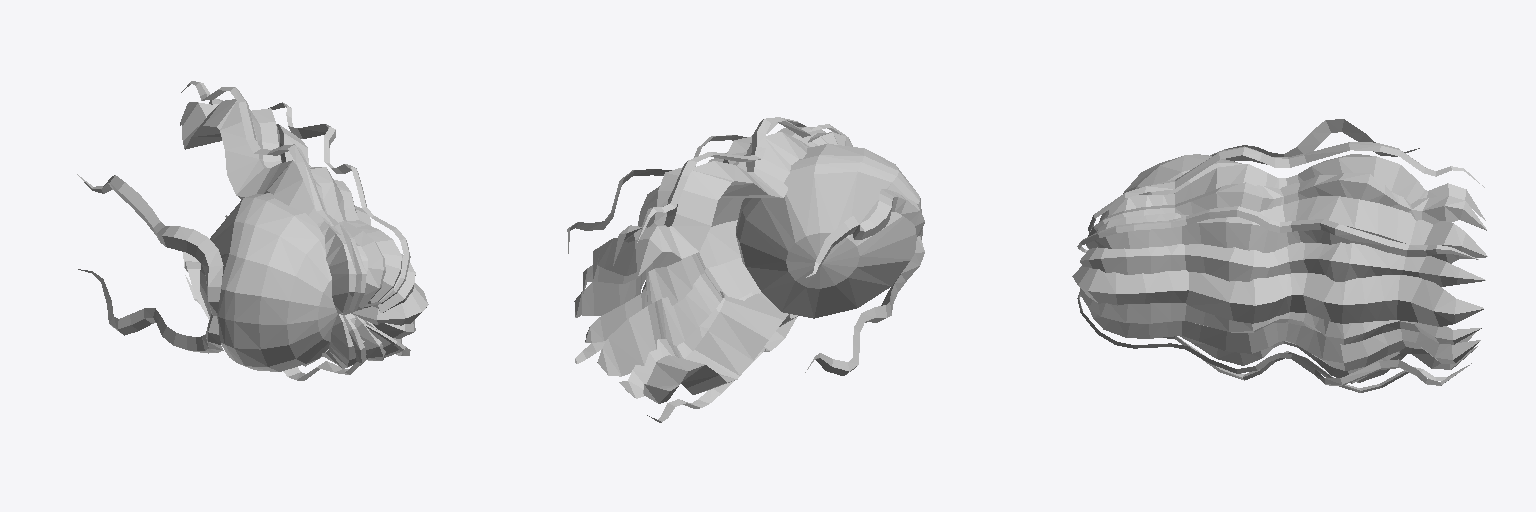
Rendered from hair.obj.
The picture shows the model from 3 angles: view 1: azimuth 30°, elevation 25°; view 2: azimuth 150°, elevation 25°; view 3: azimuth 270°, elevation 25°; orthographic projection.
Visible parts, largest first — view 1: Handle1.003, Handle1, Handle1.001, Handle1.002; view 2: Handle1.003, Handle1, Handle1.001, Handle1.002; view 3: Handle1.003, Handle1, Handle1.001.
Boxes of the visible parts, x1=… form: Handle1.003: x1=180, y1=81, x2=428, y2=380; Handle1: x1=200, y1=193, x2=354, y2=371; Handle1.001: x1=77, y1=174, x2=223, y2=315; Handle1.002: x1=78, y1=269, x2=223, y2=353; Handle1.003: x1=567, y1=117, x2=852, y2=422; Handle1: x1=736, y1=144, x2=922, y2=318; Handle1.001: x1=805, y1=189, x2=924, y2=278; Handle1.002: x1=805, y1=236, x2=924, y2=375; Handle1.003: x1=1072, y1=142, x2=1487, y2=392; Handle1: x1=1123, y1=154, x2=1241, y2=204; Handle1.001: x1=1210, y1=119, x2=1419, y2=164.
Size of the model in its own units: 2.14 by 2.23 by 3.35.